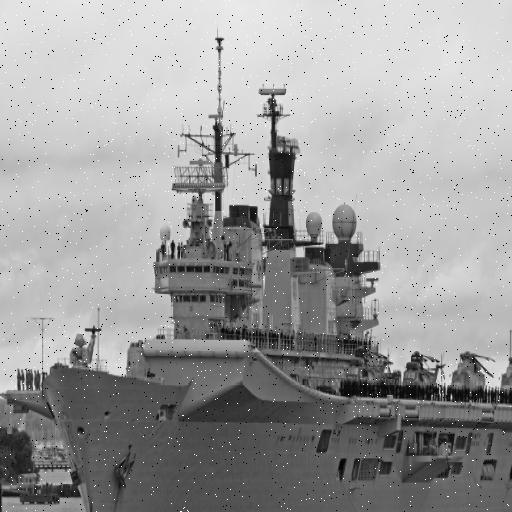Portanaves: (1, 25, 512, 512)
